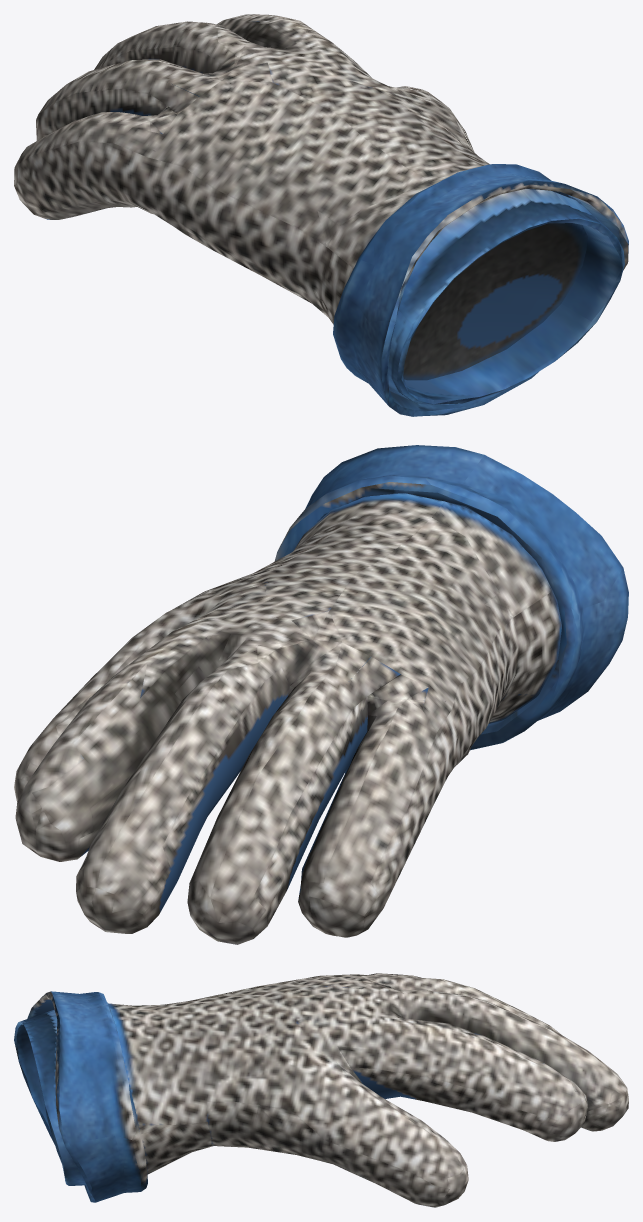
The model's file is item_mm9_10227.glb.
The picture shows the model from 3 angles, top to bottom: view 1: azimuth 30°, elevation 25°; view 2: azimuth 150°, elevation 25°; view 3: azimuth 270°, elevation 25°; orthographic projection. The views are drawn at different scales.
Visible parts, largest first — view 1: d10227; view 2: d10227; view 3: d10227.
Part boxes in pixels (left/top/right/bottom): d10227: left=14, top=14, right=628, bottom=416; d10227: left=14, top=445, right=628, bottom=944; d10227: left=14, top=973, right=628, bottom=1207.
Bounding box in the file's own units: 0.5634 × 0.3542 × 1.04.
Materials: 1 (1 with a texture image).
